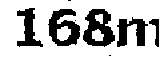1: (11, 5, 45, 51)
6: (47, 6, 81, 50)
8: (83, 7, 115, 53)
m: (115, 15, 160, 52)
